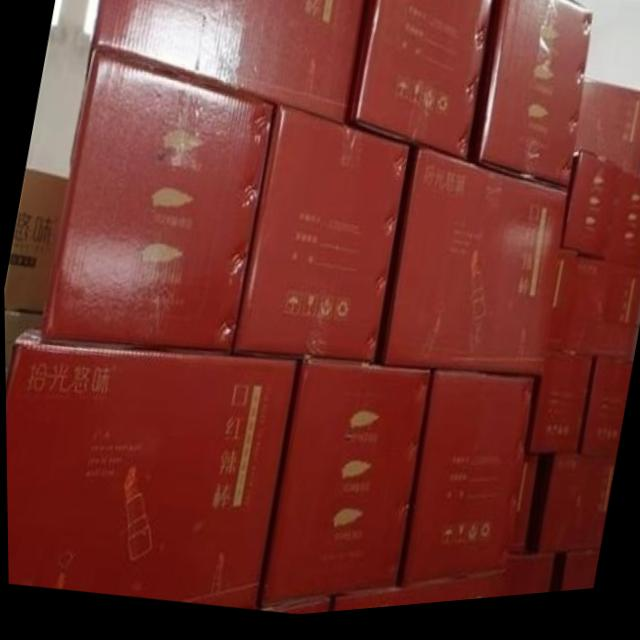box: (5, 326, 303, 615), (37, 48, 279, 360), (233, 107, 413, 367), (374, 155, 566, 388), (258, 362, 429, 613), (91, 0, 365, 129), (395, 374, 537, 594), (342, 0, 497, 172), (469, 0, 594, 204), (327, 563, 551, 618), (3, 169, 67, 314), (524, 462, 612, 560), (561, 264, 640, 372), (557, 158, 623, 269), (524, 363, 592, 462), (576, 89, 640, 186), (576, 370, 632, 472), (608, 181, 640, 280), (507, 464, 537, 564), (546, 562, 598, 602), (258, 603, 330, 620)
